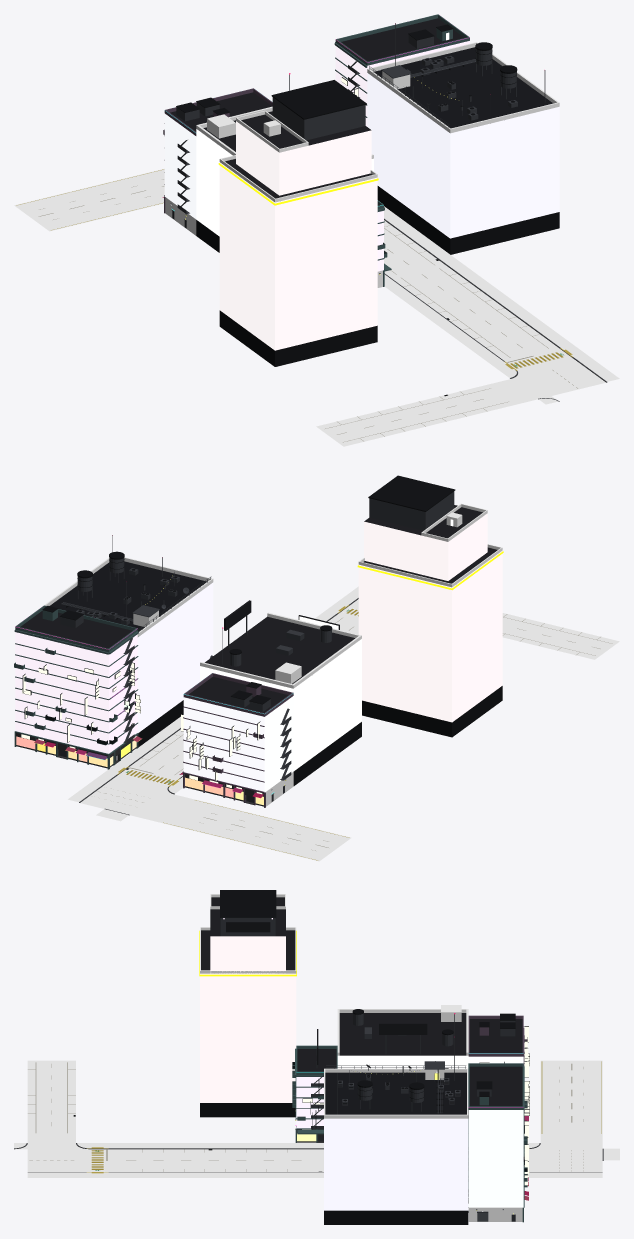
File: world-high-afterlife.glb
The picture shows the model from 3 angles, top to bottom: view 1: azimuth 30°, elevation 25°; view 2: azimuth 150°, elevation 25°; view 3: azimuth 270°, elevation 25°; orthographic projection. The views are drawn at different scales.
Visible parts, largest first — view 1: rooftop_facade, afterlife_asphalt, rooftop_dark, rooftop_roof_wet, afterlife_sidewalk, afterlife_facade, rooftop_concrete, afterlife_roof, rooftop_metal, rooftop_dark_detail, afterlife_trim, rooftop_facade_t1 (+8 smaller); view 2: rooftop_facade, afterlife_facade, afterlife_asphalt, afterlife_trim, rooftop_facade_t1, rooftop_roof, rooftop_roof_wet, rooftop_dark, afterlife_roof, rooftop_concrete, rooftop_metal, rooftop_dark_detail (+11 smaller); view 3: rooftop_facade, afterlife_asphalt, afterlife_facade, rooftop_roof, rooftop_roof_wet, afterlife_roof, afterlife_sidewalk, rooftop_dark, afterlife_trim, rooftop_concrete, rooftop_dark_detail, rooftop_facade_t1 (+10 smaller).
Part boxes in pixels (left/top/right/bottom): rooftop_facade: left=219, top=73, right=559, bottom=350; afterlife_asphalt: left=14, top=168, right=605, bottom=446; rooftop_dark: left=196, top=186, right=559, bottom=366; rooftop_roof_wet: left=374, top=47, right=552, bottom=128; afterlife_sidewalk: left=384, top=206, right=619, bottom=404; afterlife_facade: left=164, top=41, right=469, bottom=271; rooftop_concrete: left=219, top=42, right=559, bottom=202; afterlife_roof: left=170, top=18, right=464, bottom=205; rooftop_metal: left=272, top=49, right=516, bottom=140; rooftop_dark_detail: left=271, top=42, right=517, bottom=119; afterlife_trim: left=164, top=14, right=573, bottom=370; rooftop_facade_t1: left=196, top=129, right=373, bottom=236; rooftop_facade: left=137, top=513, right=502, bottom=732; afterlife_facade: left=15, top=632, right=293, bottom=792; afterlife_asphalt: left=80, top=599, right=619, bottom=861; afterlife_trim: left=14, top=605, right=349, bottom=807; rooftop_facade_t1: left=200, top=639, right=361, bottom=770; rooftop_roof: left=205, top=505, right=497, bottom=684; rooftop_roof_wet: left=50, top=561, right=206, bottom=631; rooftop_dark: left=138, top=686, right=502, bottom=785; afterlife_roof: left=20, top=611, right=288, bottom=712; rooftop_concrete: left=38, top=503, right=502, bottom=637; rooftop_metal: left=77, top=491, right=454, bottom=617; rooftop_dark_detail: left=66, top=475, right=455, bottom=654; rooftop_facade: left=200, top=936, right=468, bottom=1210; afterlife_asphalt: left=15, top=1060, right=602, bottom=1171; afterlife_facade: left=296, top=1056, right=523, bottom=1207; rooftop_roof: left=201, top=897, right=466, bottom=1055; rooftop_roof_wet: left=325, top=1072, right=468, bottom=1118; afterlife_roof: left=297, top=1019, right=522, bottom=1106; afterlife_sidewalk: left=14, top=1143, right=619, bottom=1177; rooftop_dark: left=200, top=1103, right=468, bottom=1224; afterlife_trim: left=87, top=1015, right=529, bottom=1222; rooftop_concrete: left=200, top=894, right=468, bottom=1118; rooftop_dark_detail: left=220, top=890, right=459, bottom=1111; rooftop_facade_t1: left=337, top=1055, right=468, bottom=1068.
Bounding box in the file's own units: 113 × 64.3 × 176.
